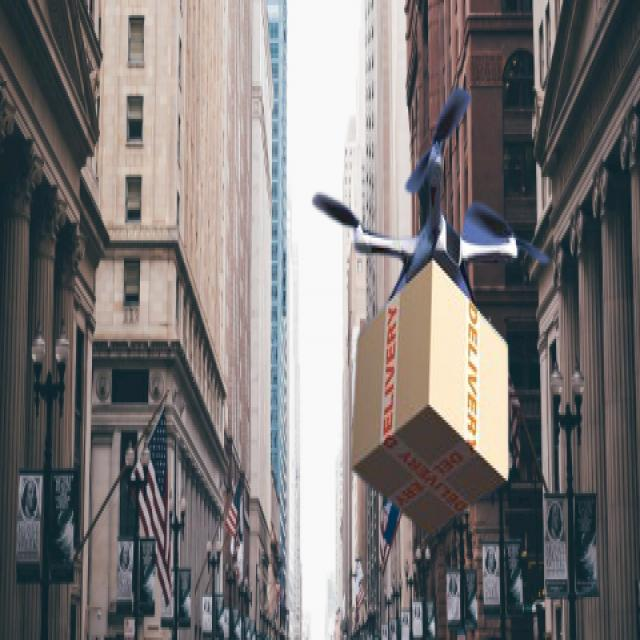drones: (302, 72, 558, 358)
